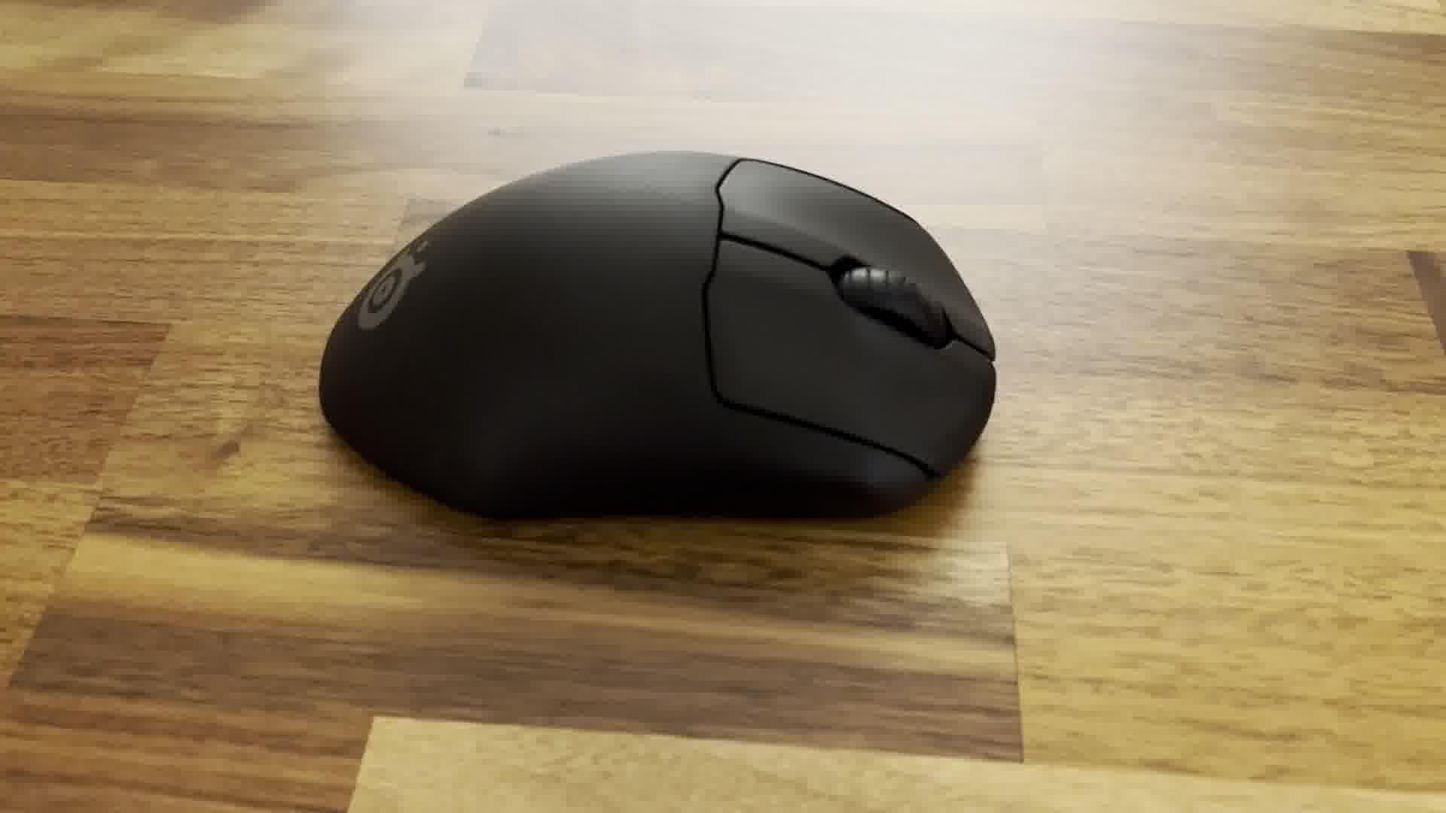mouse: (317, 145, 999, 528)
